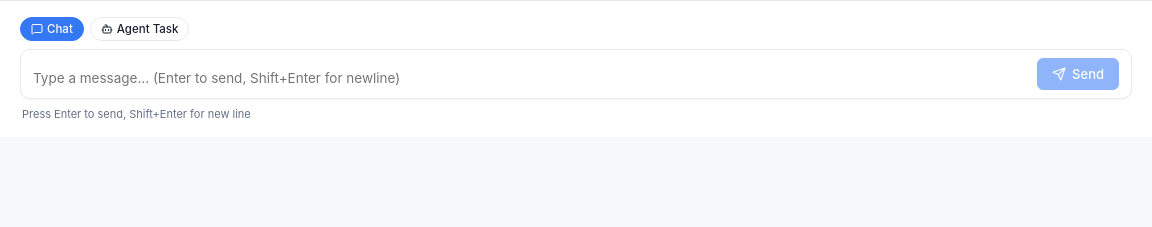
Scenario: Renderer: ConversationComposer (Agent Task Mode & Permissions) › Step 12.6 UI Mode Separation Tests (Scenarios 29 - 33b) › 31. Explicit mode switch: typing does not switch mode, switching bot resets mode to chat
Later steps or results of the test are not shown.
# Type text in chat mode
Type "execute task search_knowledge_base" into the text box with test id "message-input" at (530, 78), box [33,66,1027,90]
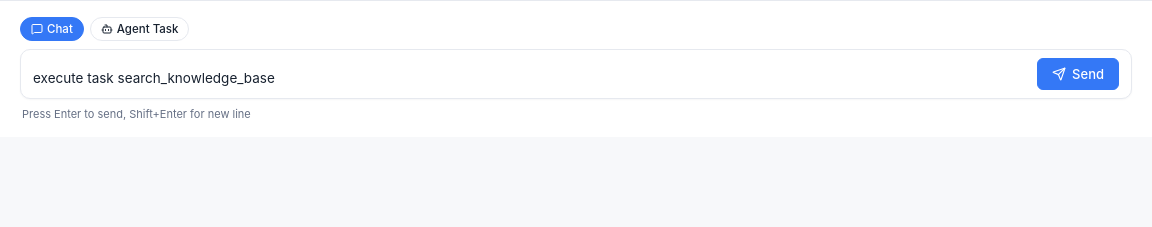
# Explicitly click Agent mode
Click the button with test id "composer-mode-agent-btn" at (140, 29), box [90,17,190,41]
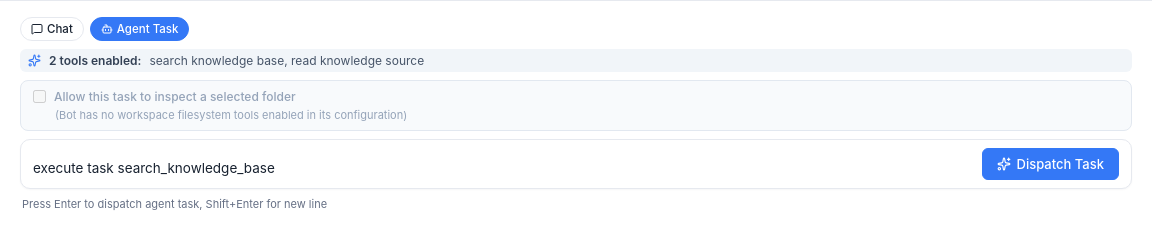
Expected: the button with test id "composer-mode-agent-btn" is pressed, [90,17,190,41]
